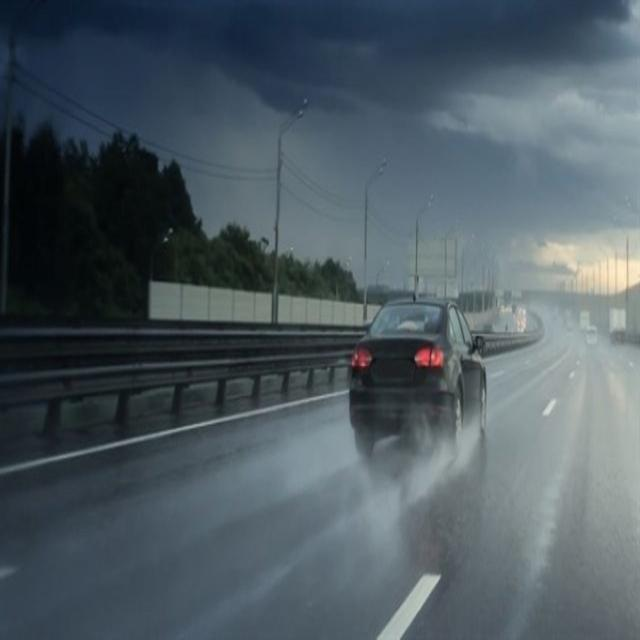bus: (608, 305, 628, 343)
car: (346, 298, 491, 460)
